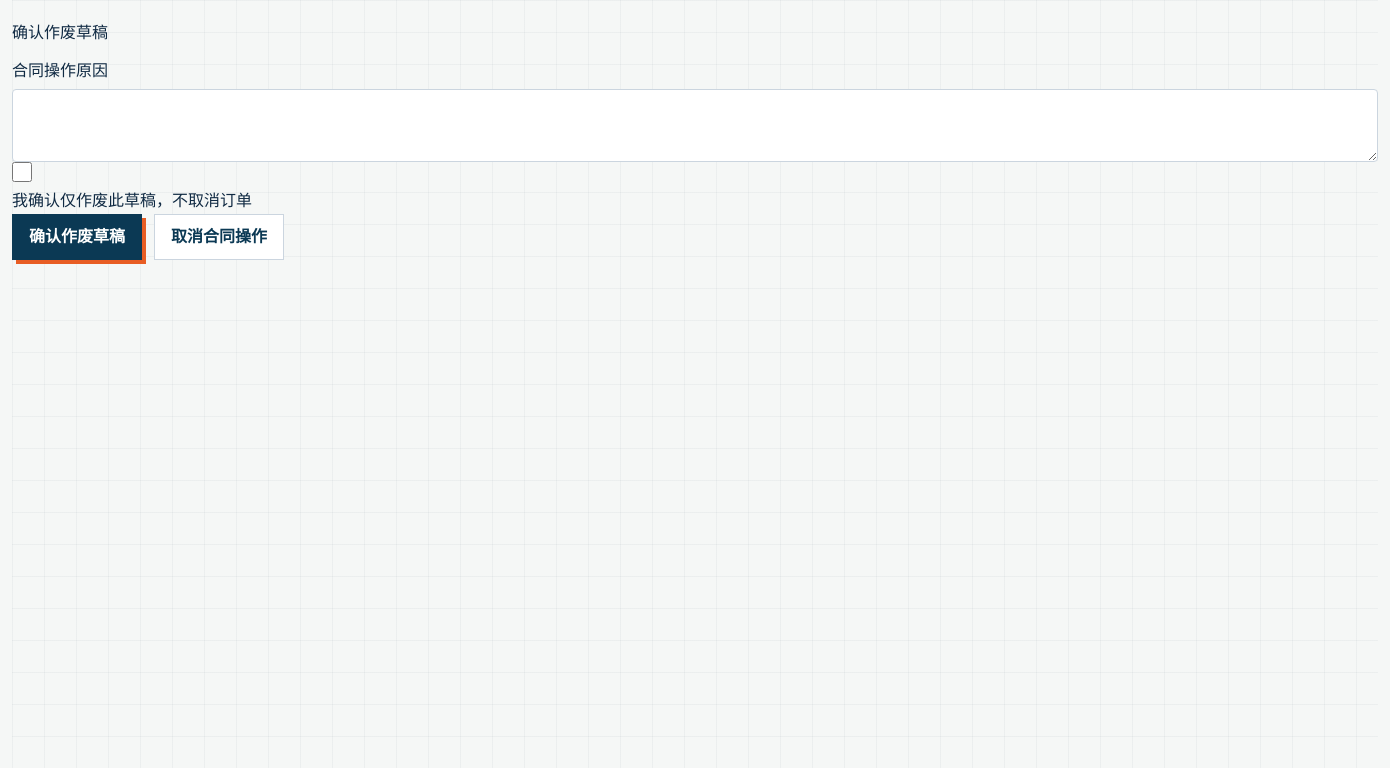
Test case: requires a reason and confirmation before voiding a draft
The image size is (1390, 768).
Step 1. Click the button "确认作废草稿" → (77, 237), box [12, 214, 142, 260]
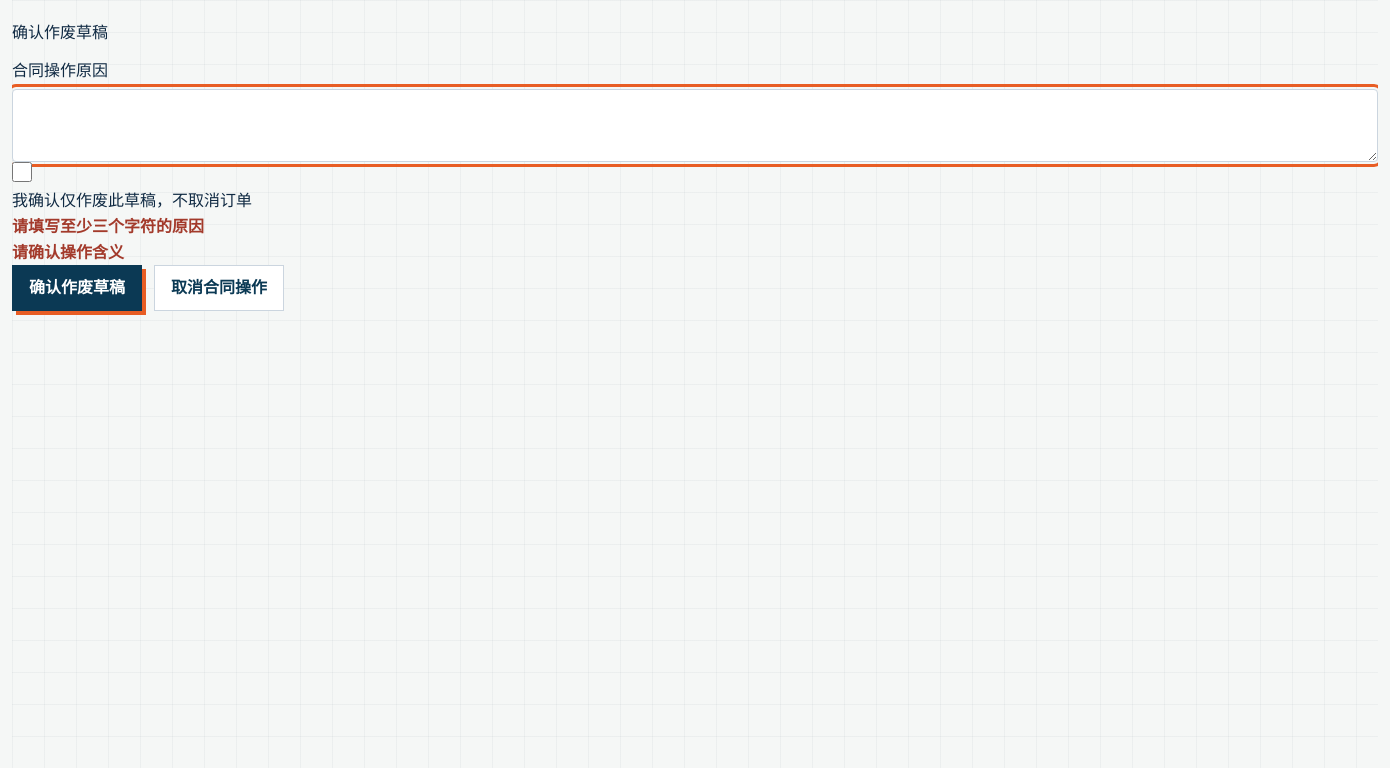
Now the text "请填写至少三个字符的原因" is shown, box [12, 215, 204, 237]
